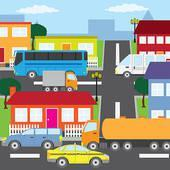bus: (11, 49, 92, 78)
car: (78, 118, 170, 152), (45, 145, 111, 168), (114, 52, 170, 79), (1, 127, 65, 149), (39, 68, 80, 93)
